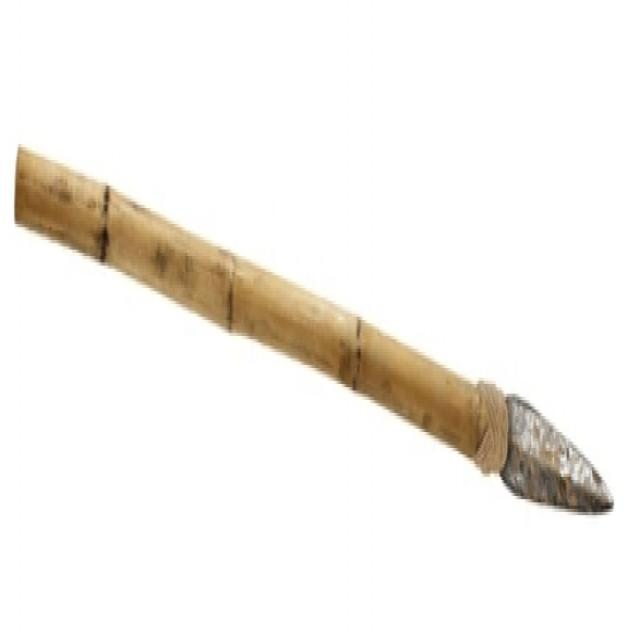spear: (9, 77, 613, 539)
